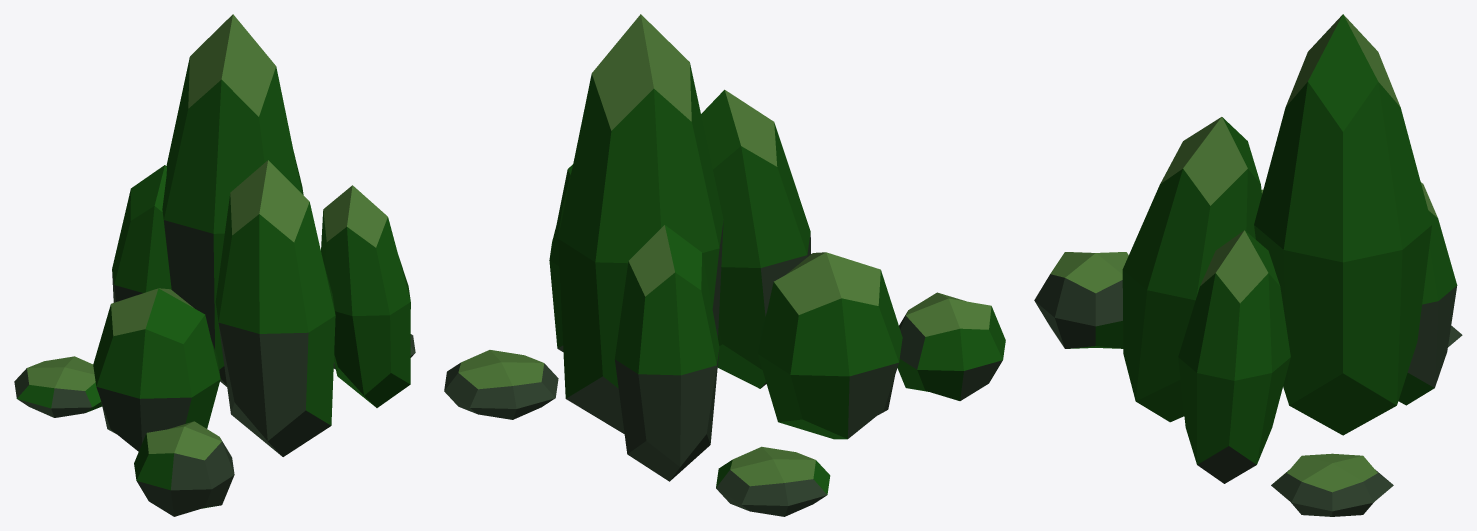
The model's file is piedra 4.fbx.
The picture shows the model from 3 angles, left to right: view 1: azimuth 30°, elevation 25°; view 2: azimuth 150°, elevation 25°; view 3: azimuth 270°, elevation 25°; orthographic projection. The views are drawn at different scales.
Visible parts, largest first — view 1: rock_01; view 2: rock_01; view 3: rock_01.
Part boxes in pixels (left/top/right/bottom): rock_01: left=14, top=14, right=415, bottom=516; rock_01: left=444, top=14, right=1005, bottom=516; rock_01: left=1034, top=14, right=1462, bottom=516.
Bounding box in the file's own units: 331 × 314 × 288.
